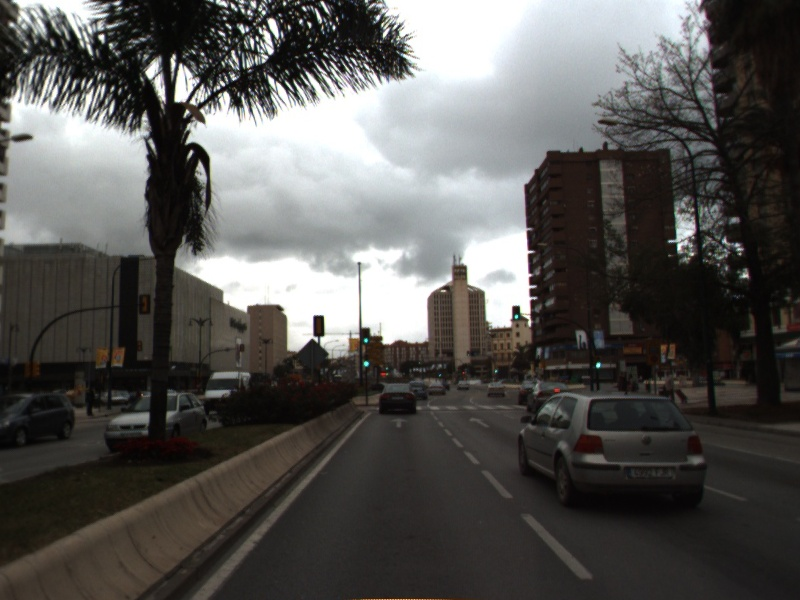STRAIGHT: (467, 414, 492, 430), (388, 415, 411, 430)
